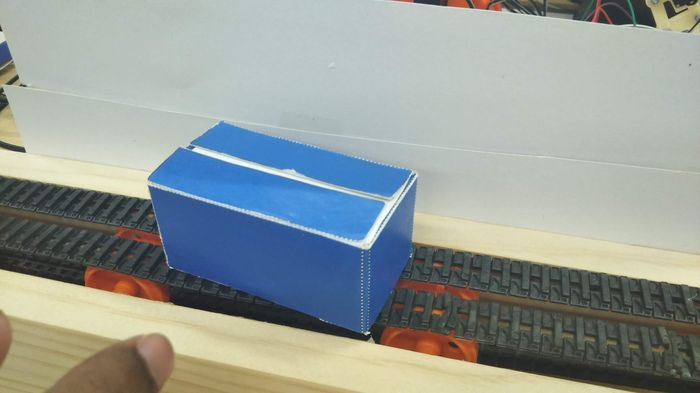box3: (145, 116, 418, 336)
